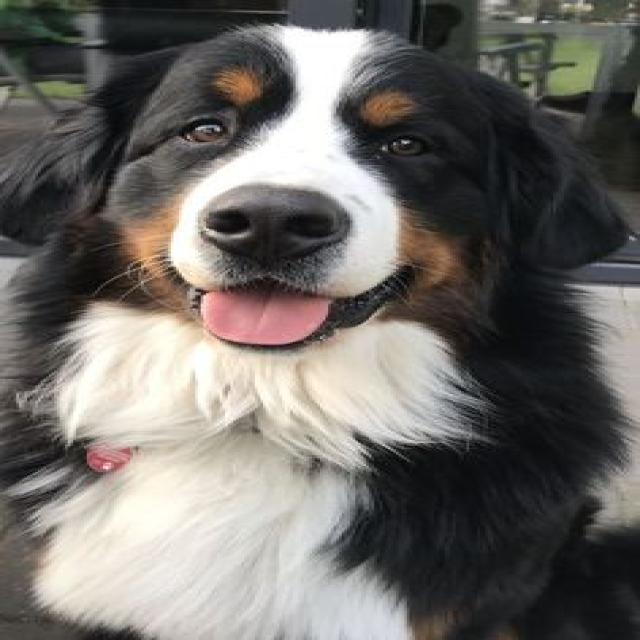Carnivorous: (0, 23, 640, 640)
